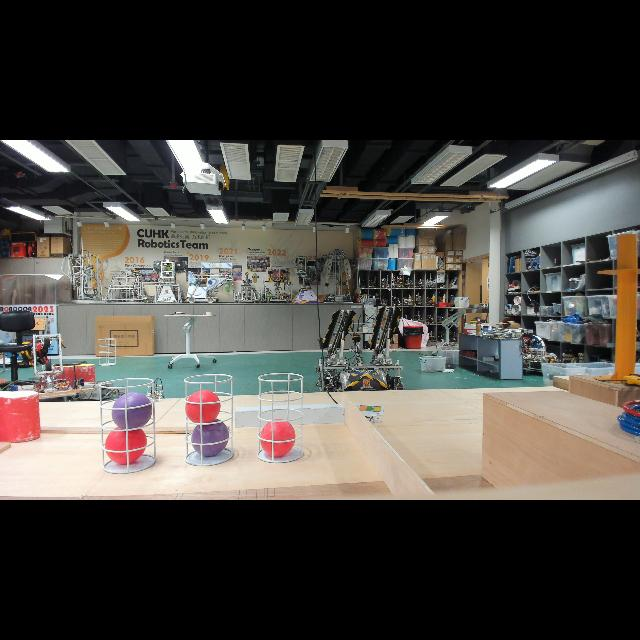P: (111, 392, 152, 431), (191, 418, 229, 456)
R: (105, 425, 147, 465), (260, 418, 296, 458), (185, 390, 221, 424)
S: (99, 377, 158, 475), (183, 373, 235, 467), (256, 372, 304, 463), (98, 338, 116, 366)
